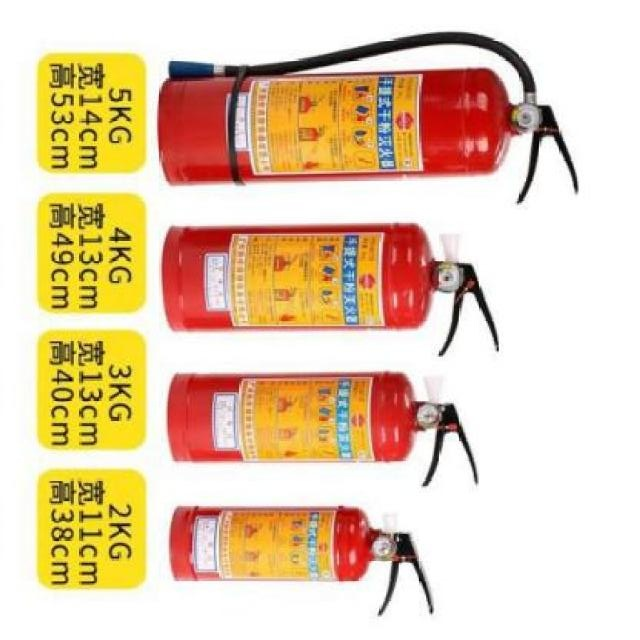fire extinguisher: (157, 31, 580, 206), (162, 220, 501, 357), (166, 369, 479, 486), (169, 505, 435, 617)
